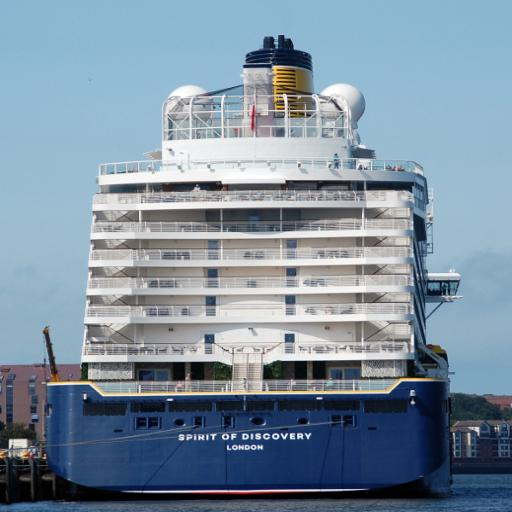cruises: (46, 28, 475, 493)
